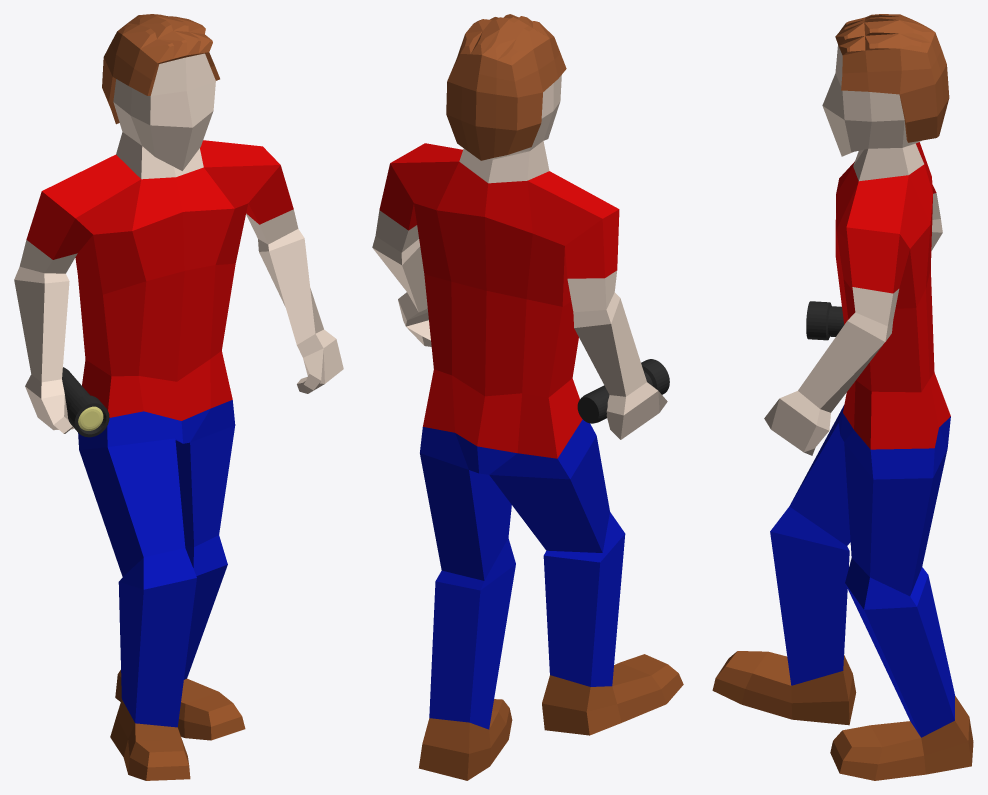
File: Human_walking_19.fbx
The picture shows the model from 3 angles, left to right: view 1: azimuth 30°, elevation 25°; view 2: azimuth 150°, elevation 25°; view 3: azimuth 270°, elevation 25°; orthographic projection. The views are drawn at different scales.
Parts seen in each view (by area): view 1: Person.001, Cylinder.001; view 2: Person.001, Cylinder.001; view 3: Person.001, Cylinder.001.
Part boxes in pixels (left/top/right/bottom): Person.001: left=14, top=14, right=343, bottom=780; Cylinder.001: left=62, top=367, right=109, bottom=437; Person.001: left=372, top=14, right=683, bottom=780; Cylinder.001: left=577, top=359, right=669, bottom=423; Person.001: left=712, top=14, right=973, bottom=780; Cylinder.001: left=806, top=301, right=844, bottom=340.
Bounding box in the file's own units: 0.6323 × 1.57 × 0.5056.
